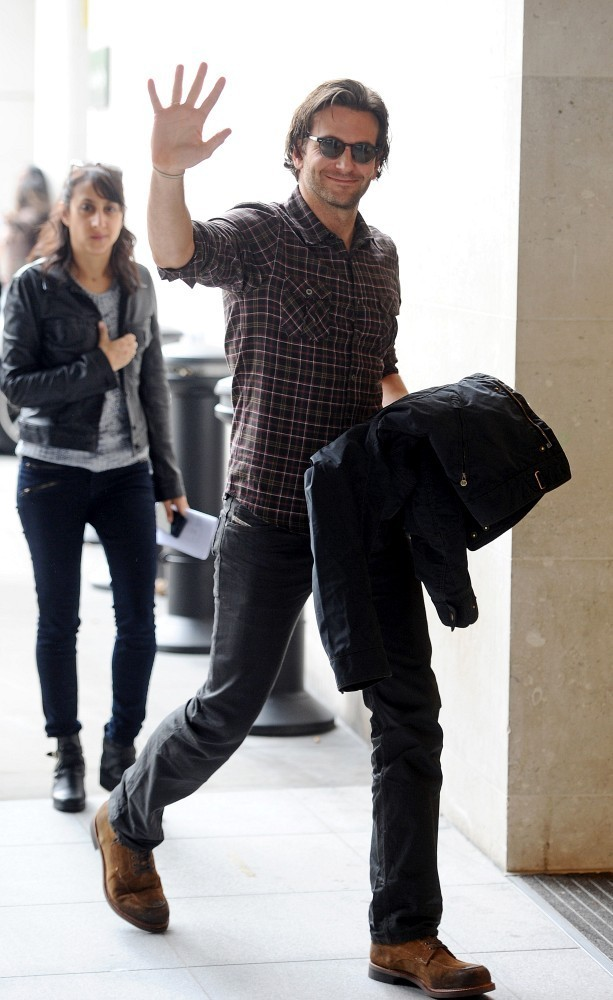Person: (91, 61, 573, 1000), (1, 157, 191, 813)
